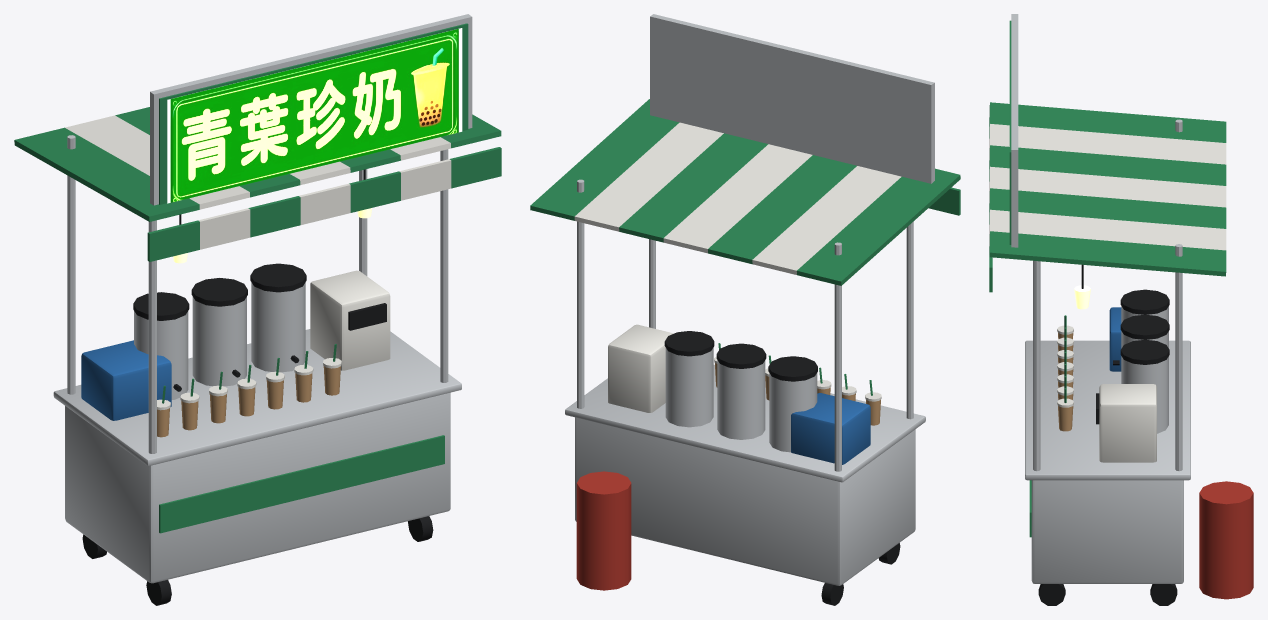
The model's file is night_market_stall_tea.glb.
The picture shows the model from 3 angles, left to right: view 1: azimuth 30°, elevation 25°; view 2: azimuth 150°, elevation 25°; view 3: azimuth 270°, elevation 25°; orthographic projection. The views are drawn at different scales.
Visible parts, largest first — view 1: body, sign; view 2: body; view 3: body.
Boxes of the visible parts, x1=… form: body: x1=14, y1=14, x2=501, y2=605; sign: x1=167, y1=28, x2=462, y2=203; body: x1=530, y1=14, x2=960, y2=605; body: x1=989, y1=14, x2=1253, y2=605.
Bounding box in the file's own units: 2.1 × 3.04 × 1.56.
9 materials, 1 textured.
